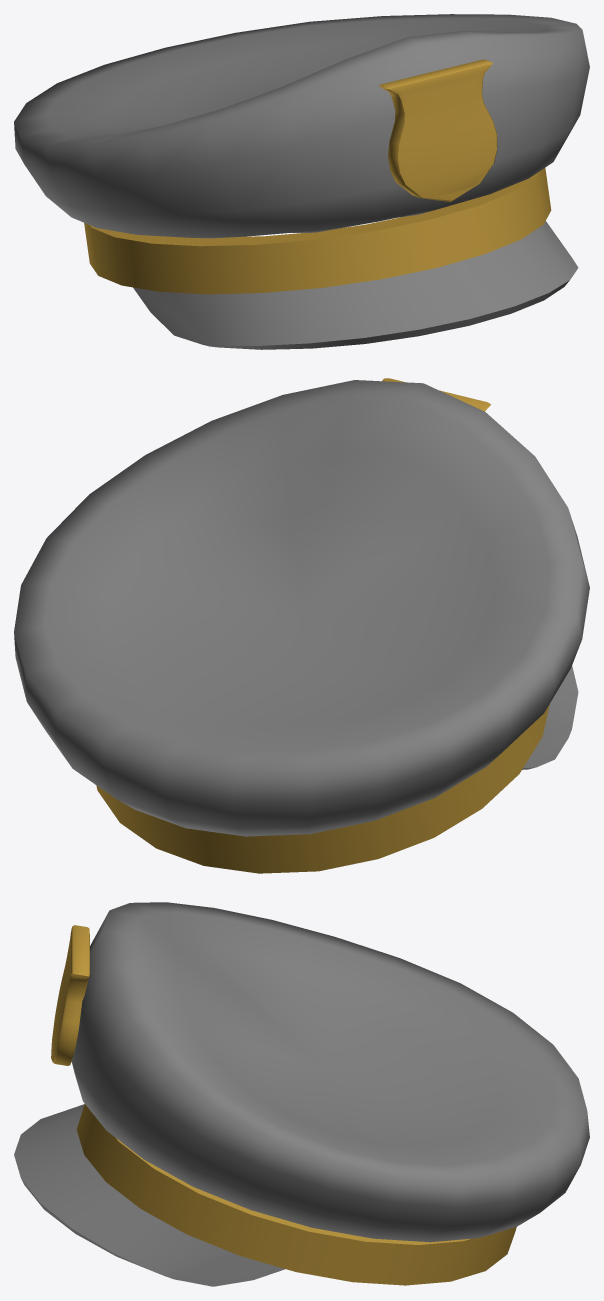
The model's file is SM_hat_police.fbx.
3 views of the same model, one above another, from view 1: azimuth 30°, elevation 25°; view 2: azimuth 150°, elevation 25°; view 3: azimuth 270°, elevation 25° (orthographic). The views are drawn at different scales.
Visible parts, largest first — view 1: Object32369; view 2: Object32369; view 3: Object32369.
Part boxes in pixels (x1,y1,x2,y2): Object32369: (14, 14, 589, 349); Object32369: (14, 378, 589, 873); Object32369: (14, 902, 589, 1286).
Bounding box in the file's own units: 39.38 × 23.99 × 41.51.
